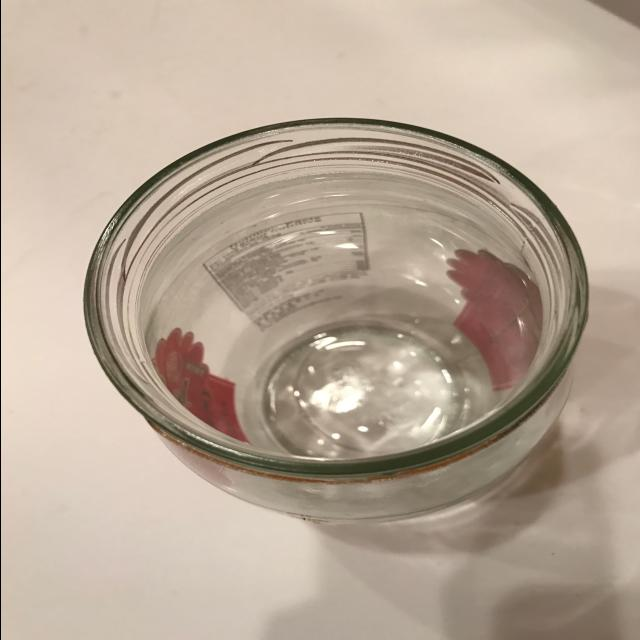glass: (76, 111, 590, 526)
